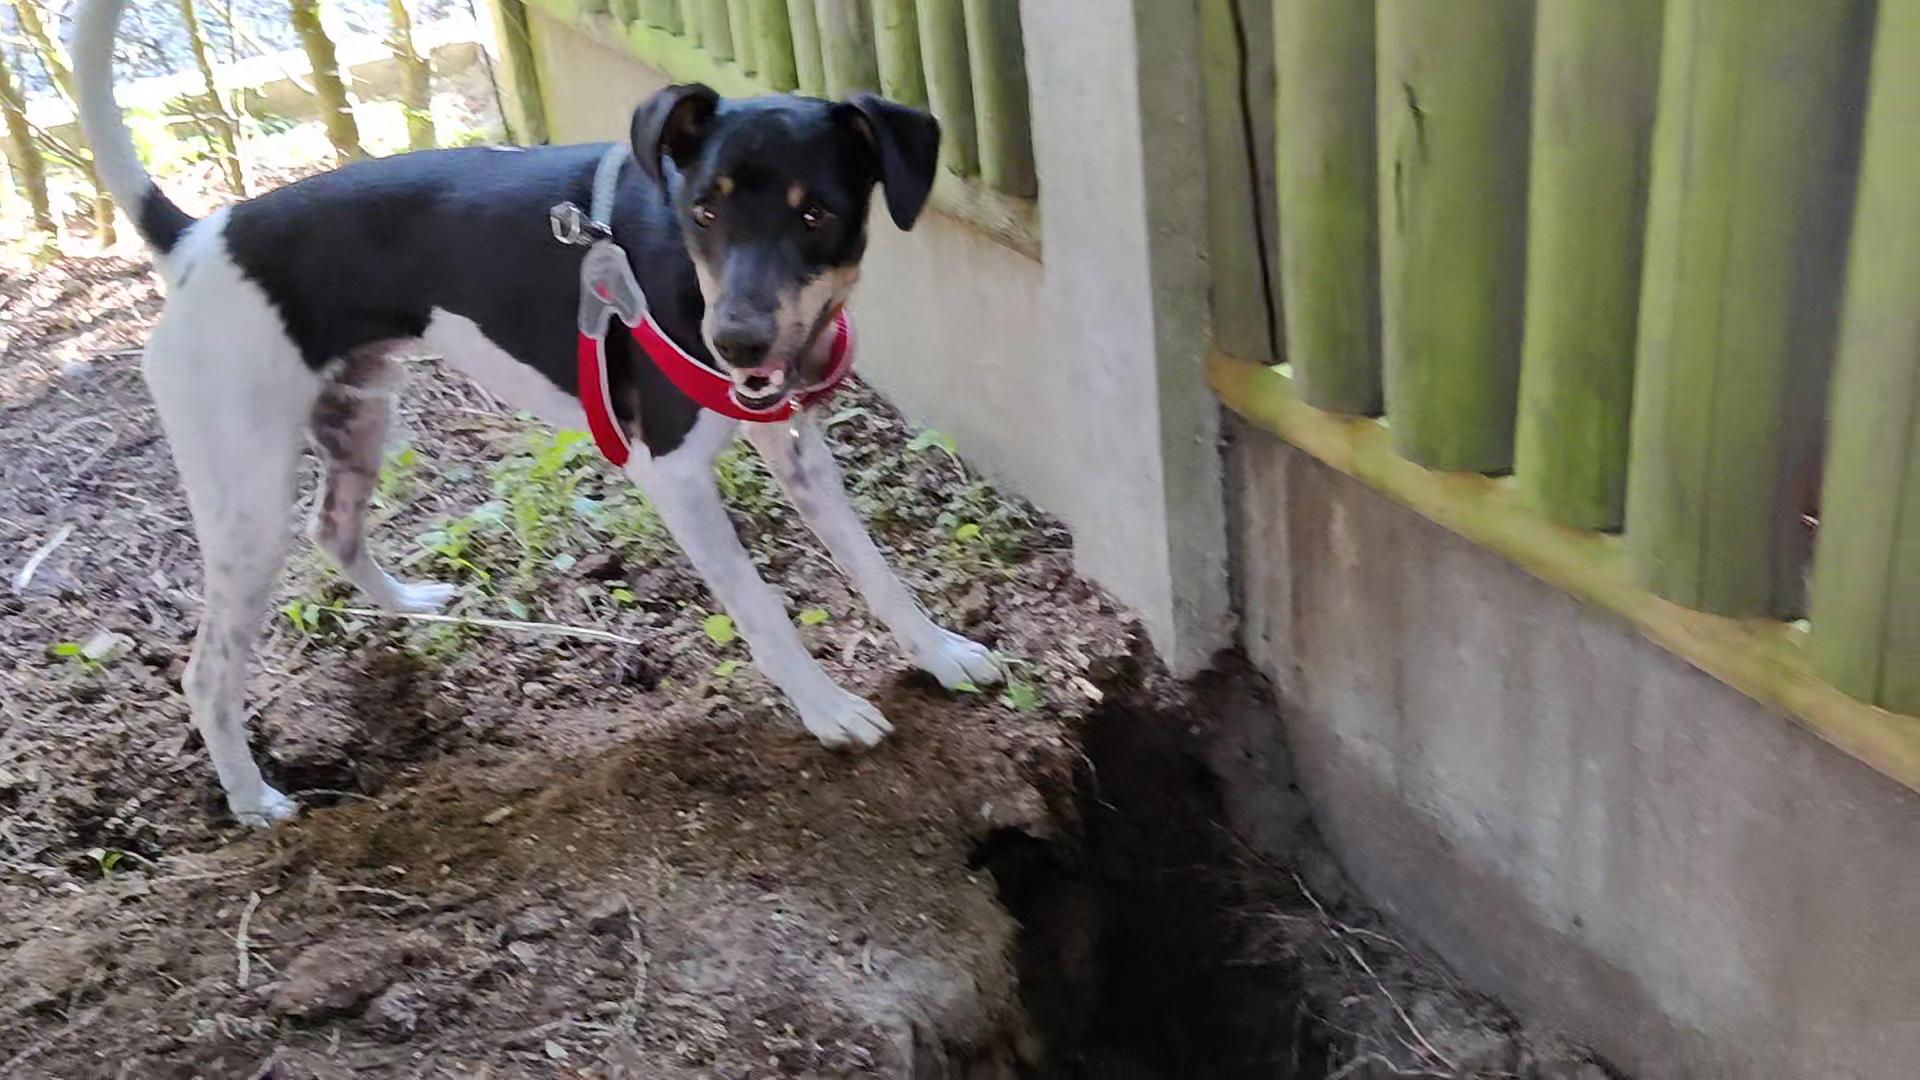Dog: (55, 0, 1040, 839)
